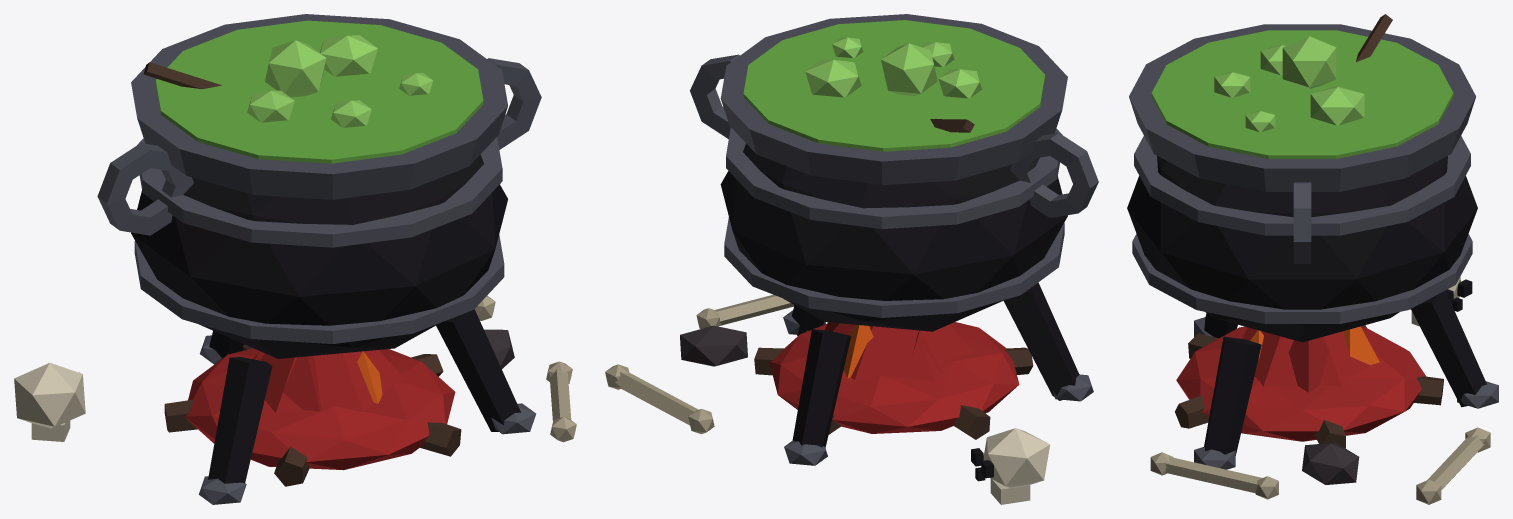
The model's file is Decor_HellGate_Cauldron.fbx.
3 views of the same model, side by side, from view 1: azimuth 30°, elevation 25°; view 2: azimuth 150°, elevation 25°; view 3: azimuth 270°, elevation 25° (orthographic). The views are drawn at different scales.
Visible parts, largest first — view 1: Cauldron_Body; view 2: Cauldron_Body; view 3: Cauldron_Body.
Part boxes in pixels (left/top/right/bottom): Cauldron_Body: left=14, top=14, right=576, bottom=504; Cauldron_Body: left=605, top=14, right=1098, bottom=504; Cauldron_Body: left=1127, top=14, right=1498, bottom=504.
Size of the model in its own units: 14.2 by 11.4 by 10.5.
